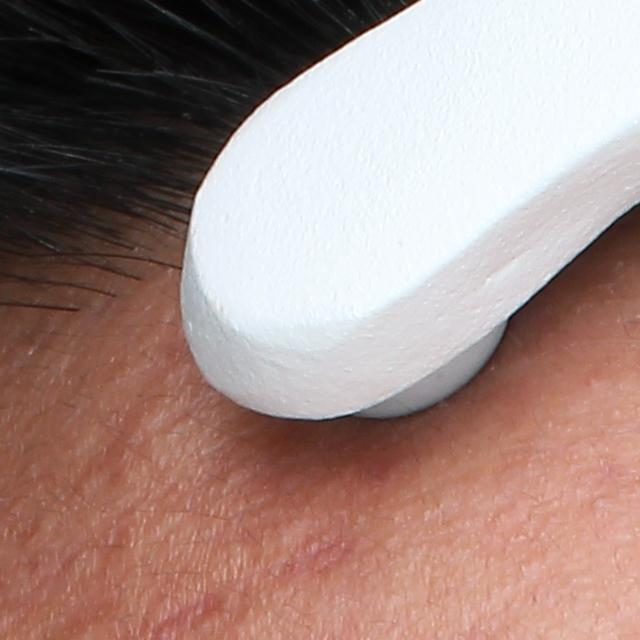atrophic_scar: (267, 520, 382, 600)
